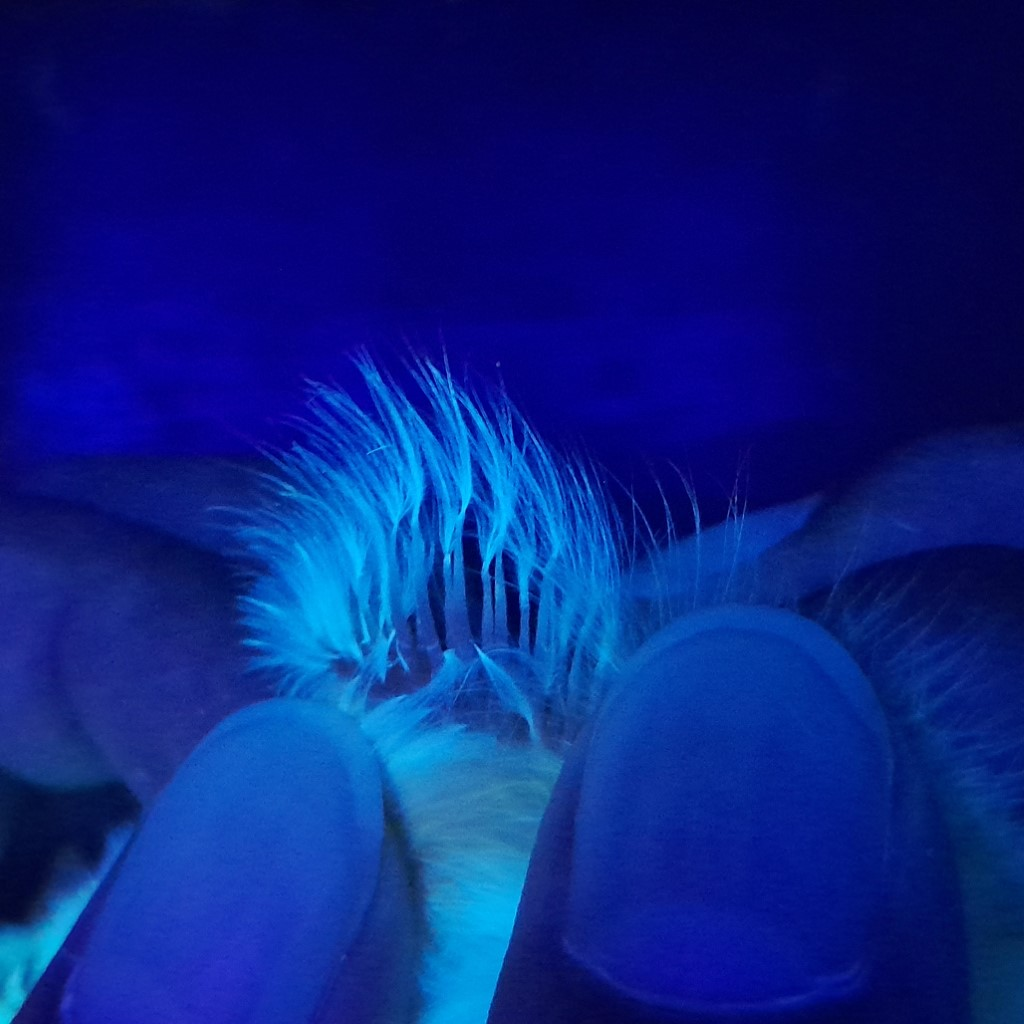male: (297, 488, 635, 775)
